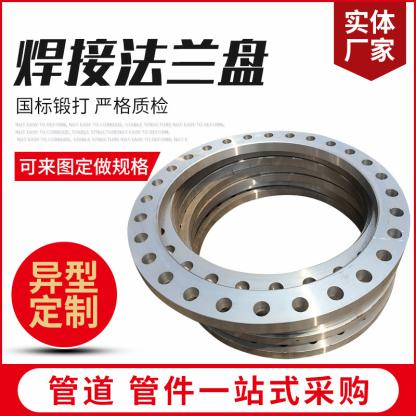FOD: (124, 129, 413, 330)
